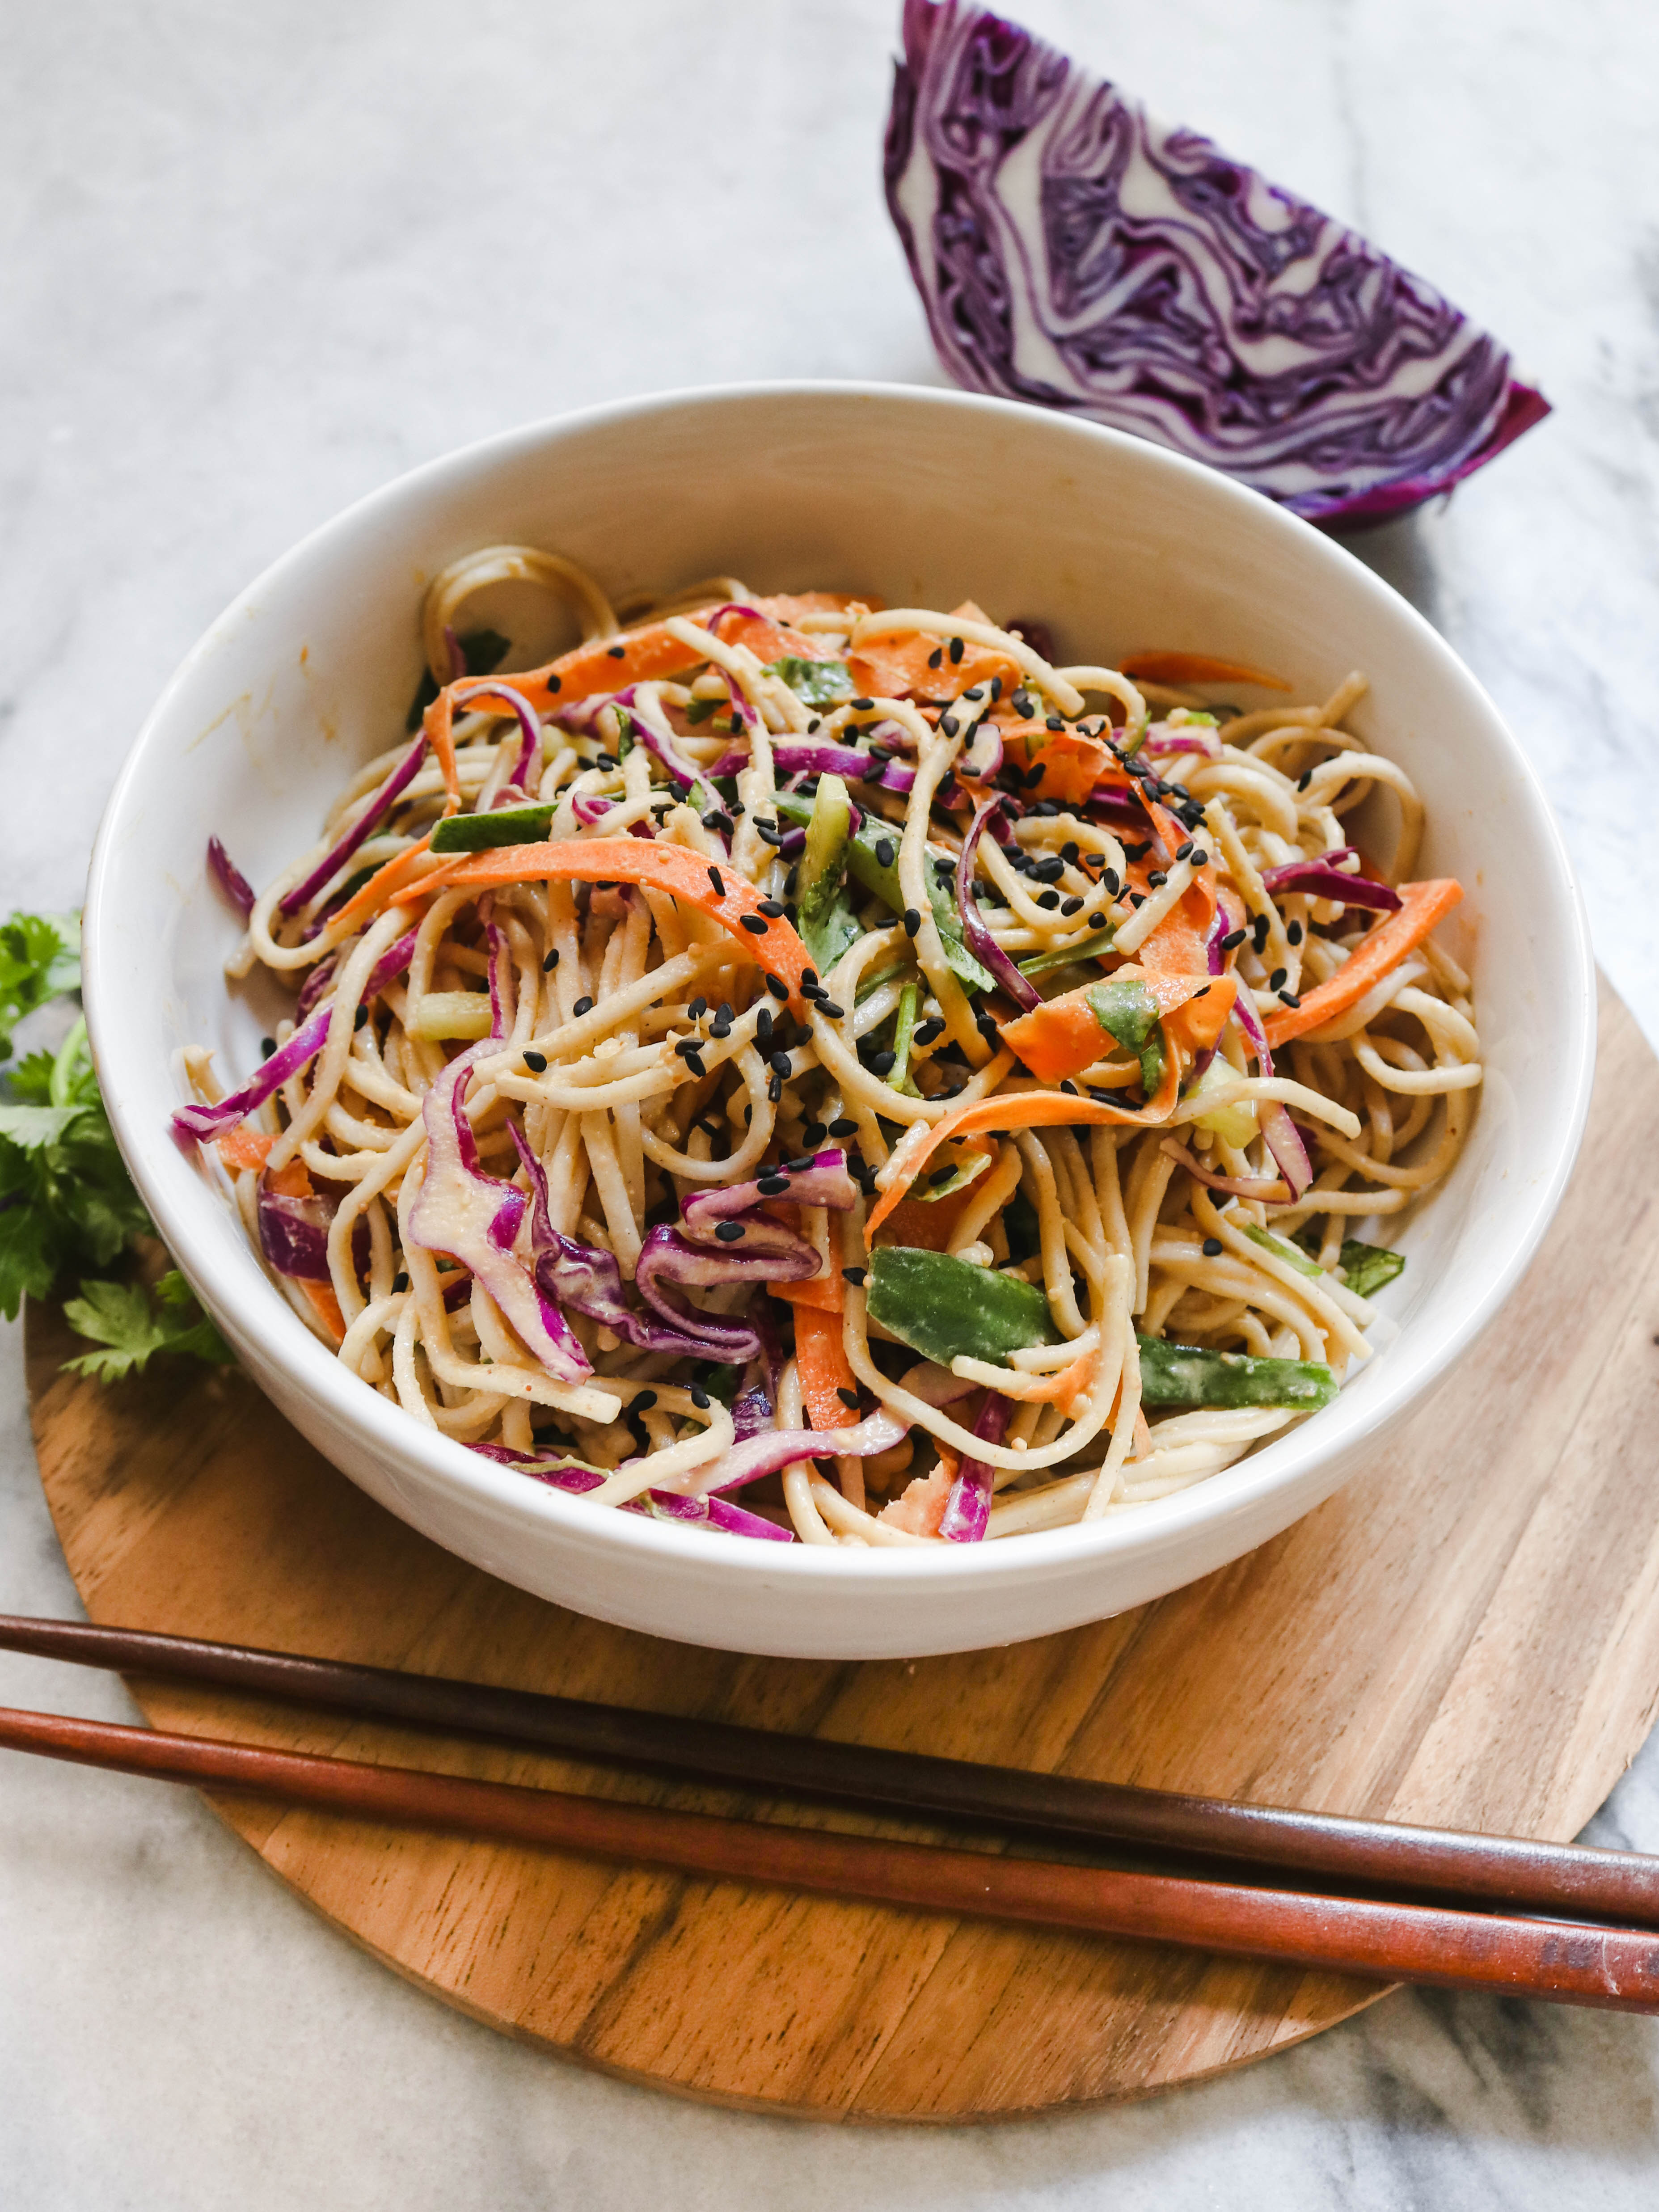Soba: (253, 577, 1575, 1559)
